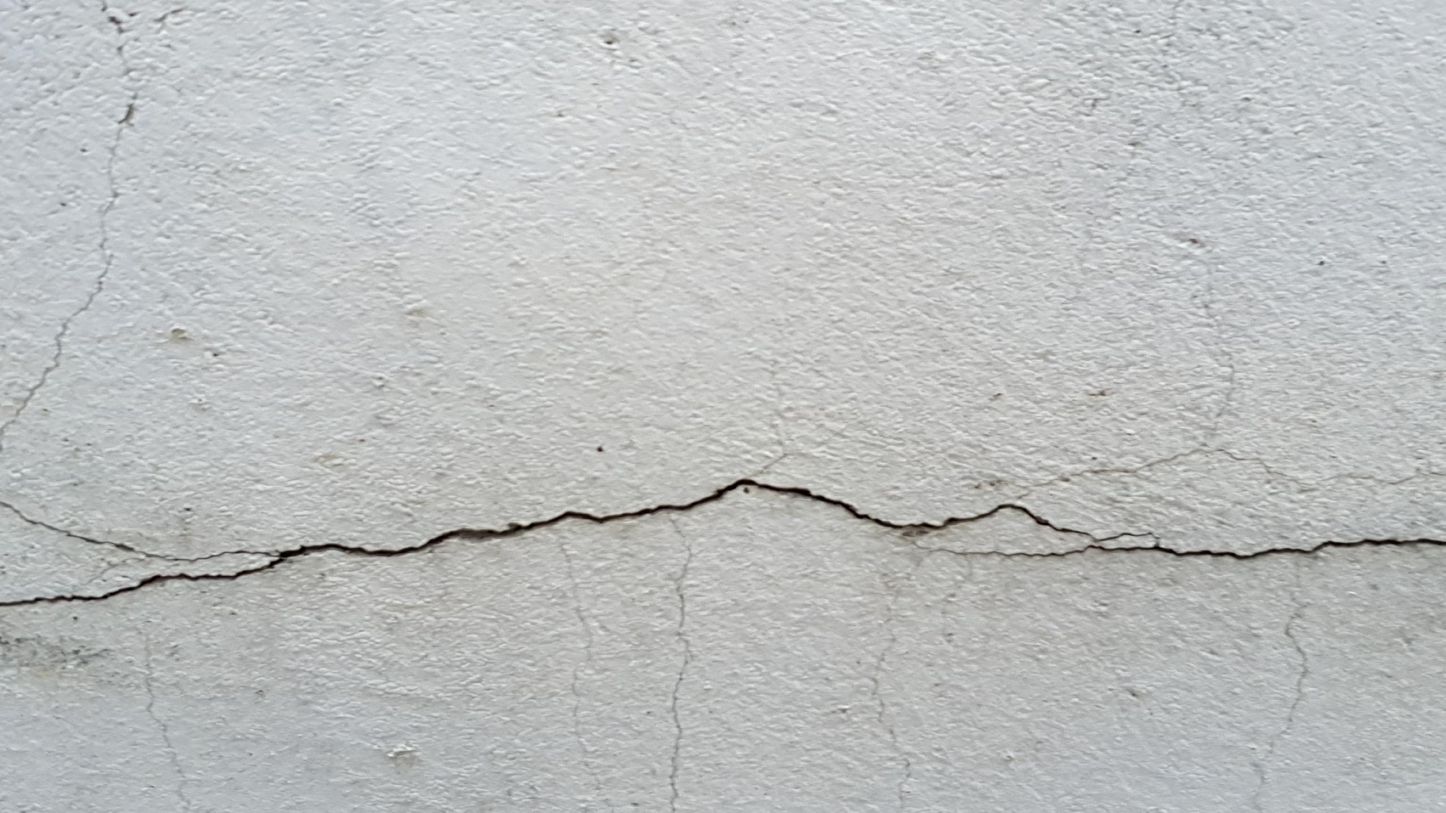crack: (1, 477, 1161, 608), (0, 500, 273, 563), (1, 288, 103, 453), (982, 538, 1444, 560)
